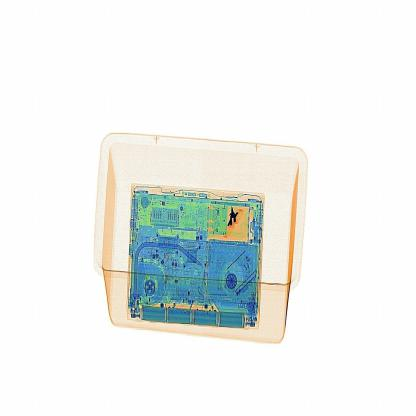gun: (218, 195, 248, 247)
